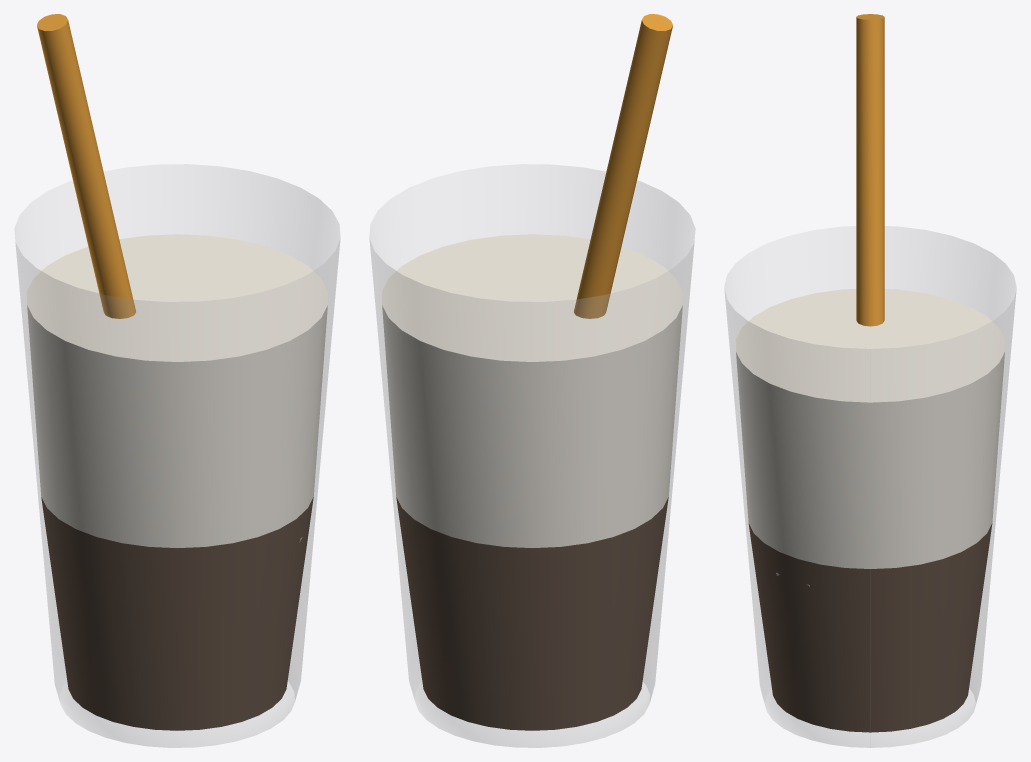
The model's file is iced-latte.glb.
The picture shows the model from 3 angles, left to right: view 1: azimuth 30°, elevation 25°; view 2: azimuth 150°, elevation 25°; view 3: azimuth 270°, elevation 25°; orthographic projection. The views are drawn at different scales.
Parts seen in each view (by area): view 1: iced-latte; view 2: iced-latte; view 3: iced-latte.
Boxes of the visible parts, bbox=[...] form: iced-latte: bbox=[14, 14, 340, 747]; iced-latte: bbox=[369, 14, 695, 747]; iced-latte: bbox=[724, 14, 1016, 747].
Size of the model in its own units: 0.086 by 0.2059 by 0.086.
